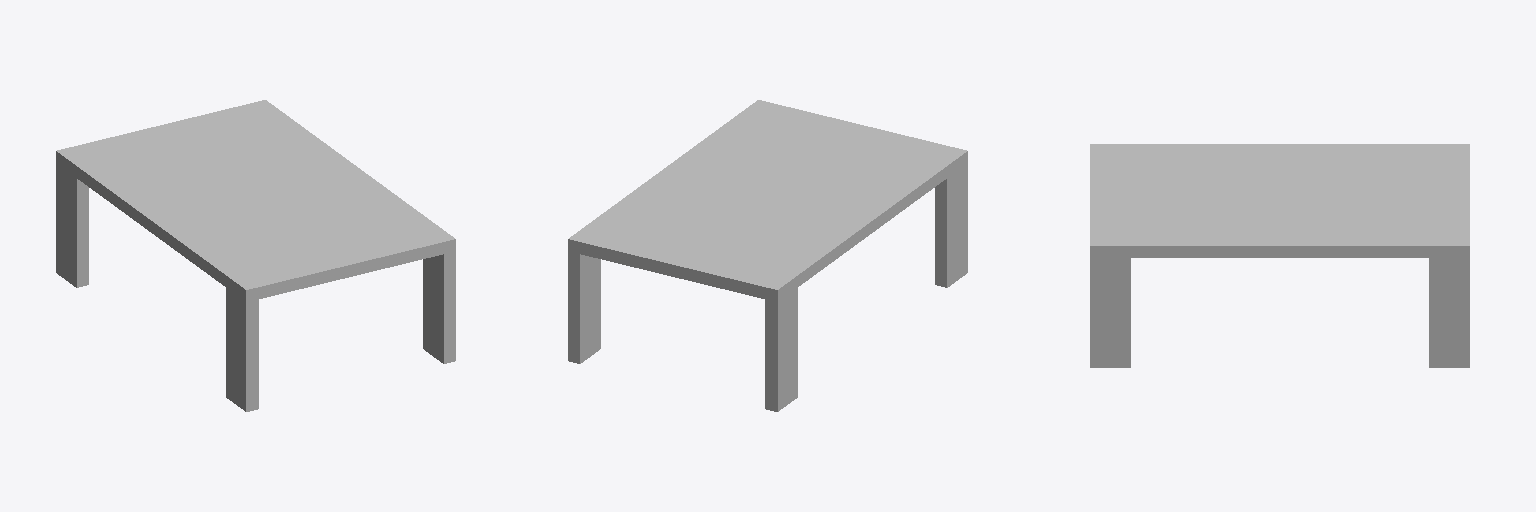
Rendered from table.obj.
3 renders of one model, left to right at view 1: azimuth 30°, elevation 25°; view 2: azimuth 150°, elevation 25°; view 3: azimuth 270°, elevation 25°, orthographic.
Visible parts, largest first — view 1: table; view 2: table; view 3: table.
Part boxes in pixels (x1,y1,x2,y2): table: (56,100,455,411); table: (568,100,967,411); table: (1090,144,1469,367).
Size of the model in its own units: 5.75 by 3.2 by 9.05.